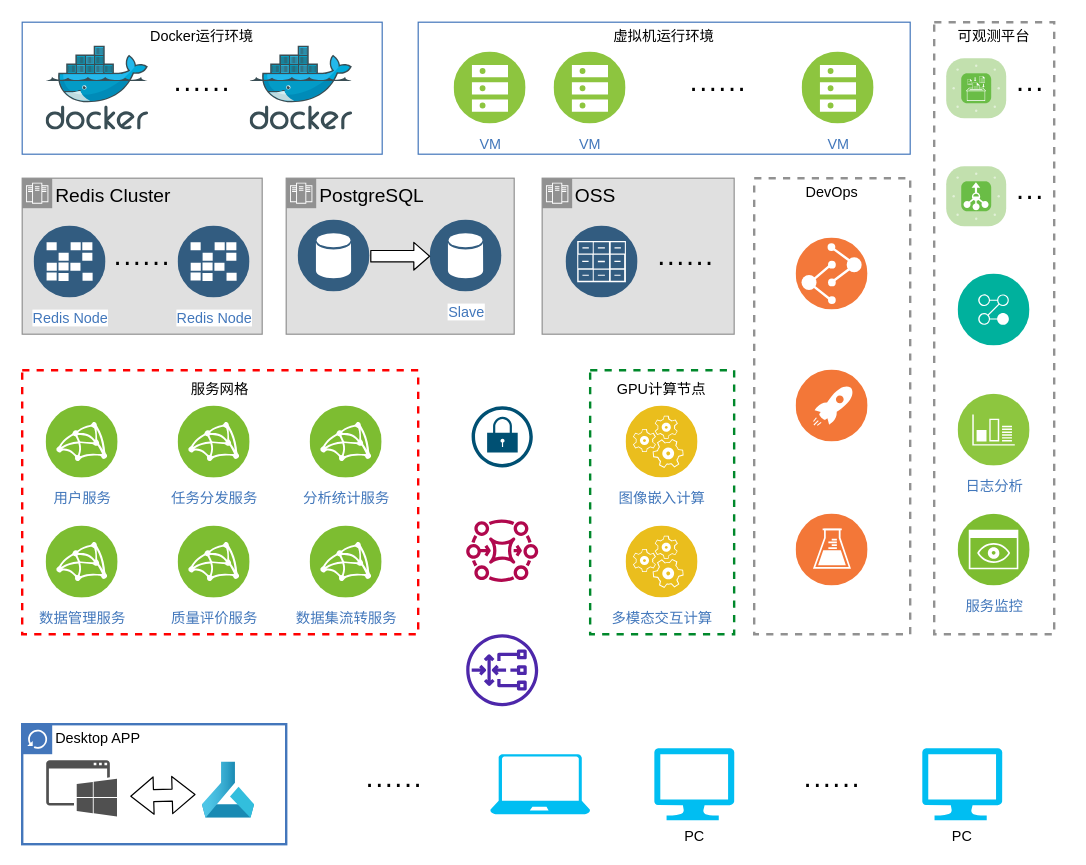
The diagram is 1086 pixels wide and 865 high, and some of its shapes have lost their labels. The centre of each missing label's shape, as x and y in pixels:
API网关: the point at 502,670
GUI Application: the point at 81,788
Laptop: the point at 540,784
Master: the point at 334,256
Node: the point at 602,262
SAM Decoder: the point at 228,790
分布式锁: the point at 501,436
持续构建: the point at 832,274
持续测试: the point at 832,550
持续部署: the point at 832,406
指标收集: the point at 975,195
日志与指标计算: the point at 994,310
日志收集: the point at 975,87
消息队列: the point at 502,550
